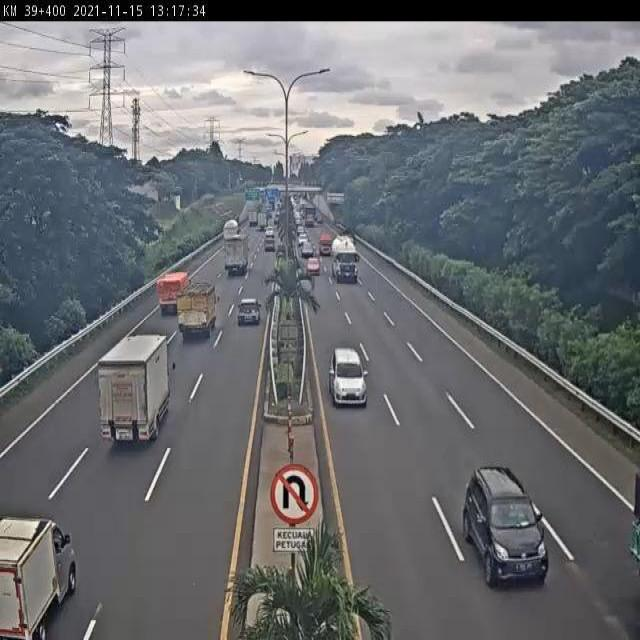car: (462, 462, 552, 586), (330, 347, 369, 409), (236, 294, 261, 326), (305, 255, 321, 277)
truck-l-: (330, 229, 361, 284)
truck-m-: (98, 334, 176, 449), (175, 280, 219, 343), (222, 234, 251, 278)
truck-s-: (0, 513, 78, 640), (155, 264, 194, 320)
